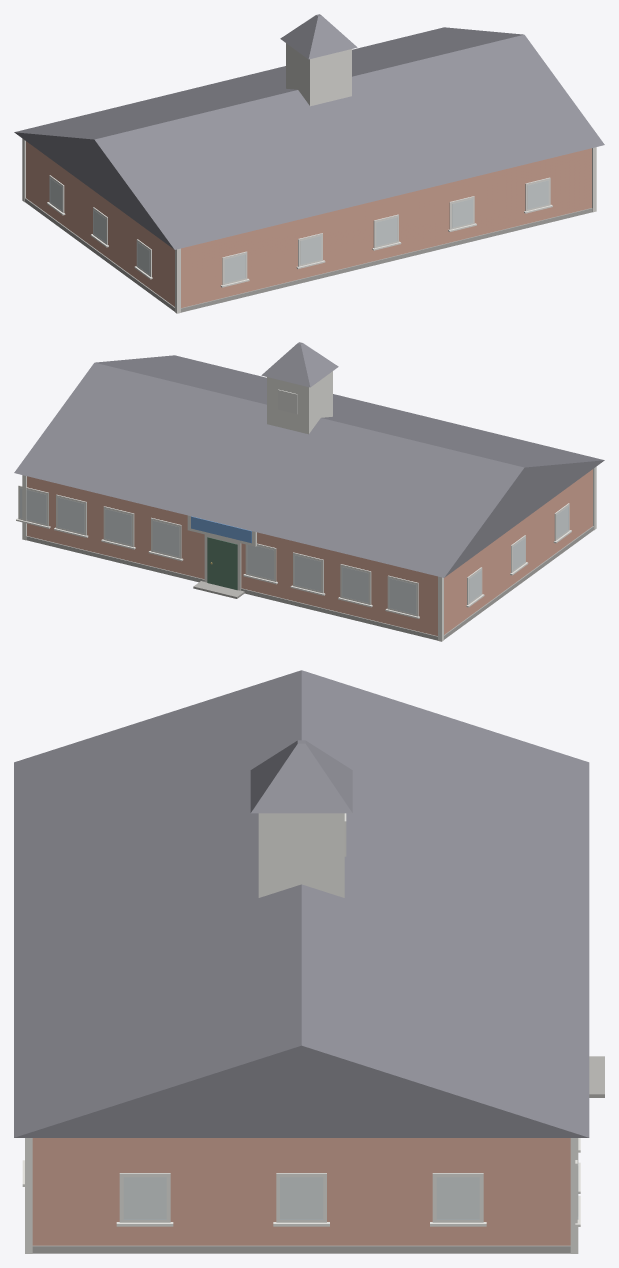
The model's file is school_b.glb.
The picture shows the model from 3 angles, top to bottom: view 1: azimuth 30°, elevation 25°; view 2: azimuth 150°, elevation 25°; view 3: azimuth 270°, elevation 25°; orthographic projection. The views are drawn at different scales.
Parts seen in each view (by area): view 1: roof, body; view 2: roof, body; view 3: roof, body.
Part boxes in pixels (<box>): roof: <box>14,14,604,249</box>; body: <box>22,138,596,313</box>; roof: <box>14,342,604,577</box>; body: <box>16,466,596,641</box>; roof: <box>14,670,589,1137</box>; body: <box>22,1056,604,1253</box>.
Size of the model in its own units: 22.73 by 9.5 by 15.1.
